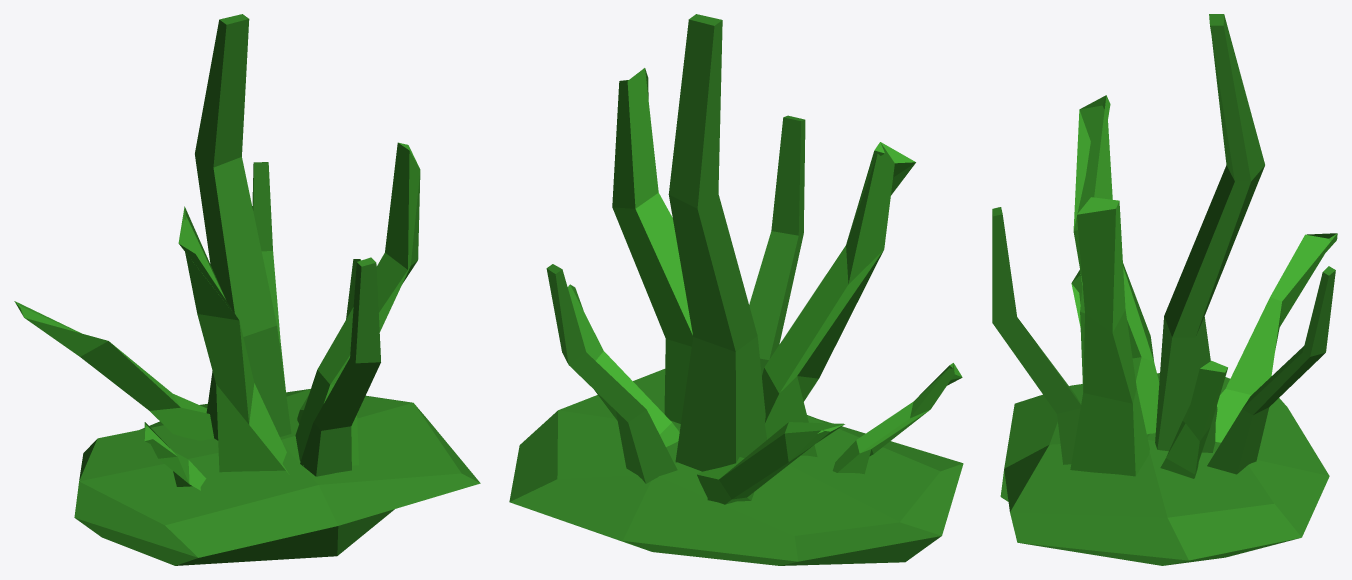
File: shrubbery2.fbx
The picture shows the model from 3 angles, left to right: view 1: azimuth 30°, elevation 25°; view 2: azimuth 150°, elevation 25°; view 3: azimuth 270°, elevation 25°; orthographic projection. The views are drawn at different scales.
Parts seen in each view (by area): view 1: Shrubbery 2; view 2: Shrubbery 2; view 3: Shrubbery 2.
Part boxes in pixels (x1,y1,x2,y2): Shrubbery 2: (14, 14, 480, 565); Shrubbery 2: (509, 14, 963, 565); Shrubbery 2: (992, 14, 1337, 565).
Size of the model in its own units: 172 by 212 by 136.
